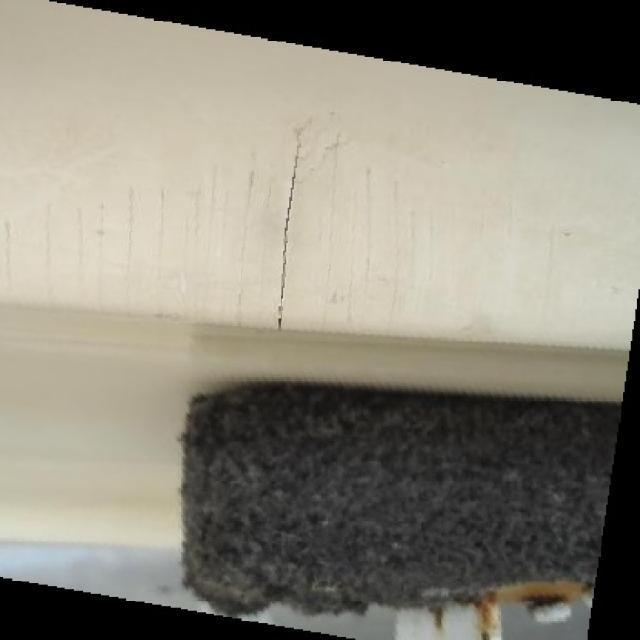crack: (279, 128, 302, 324)
